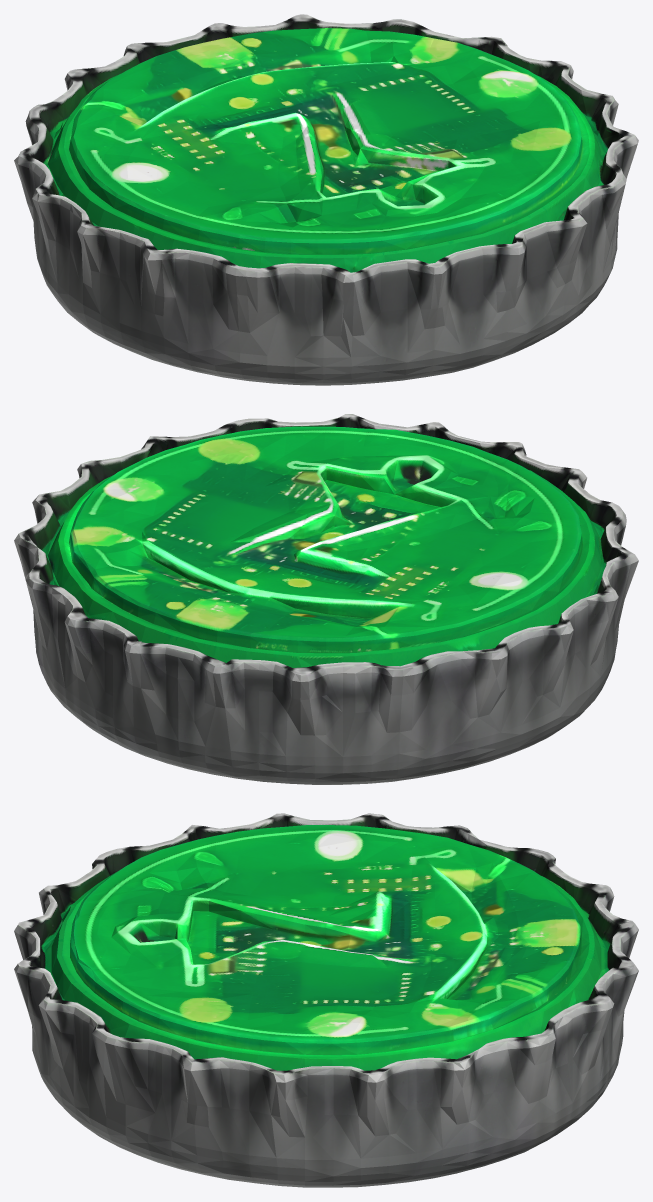
Rendered from triki.glb.
3 views of the same model, one above another, from view 1: azimuth 30°, elevation 25°; view 2: azimuth 150°, elevation 25°; view 3: azimuth 270°, elevation 25° (orthographic).
Bounding box in the file's own units: 1.89 × 0.4814 × 1.88.
Materials: 1 (1 with a texture image).
